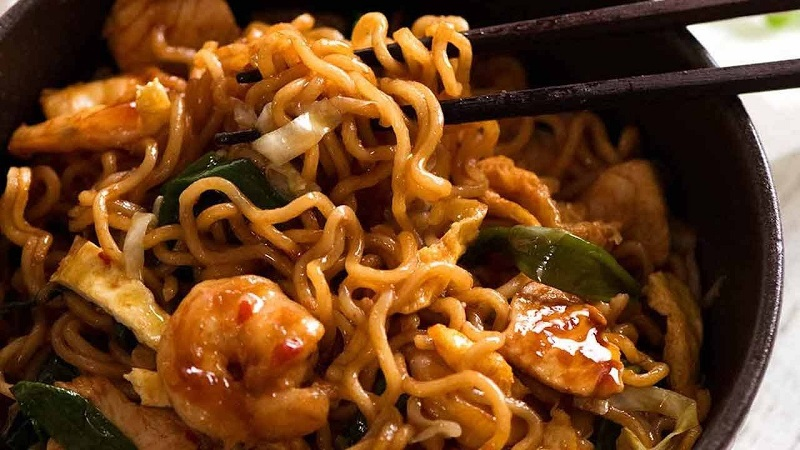Mie: (4, 3, 716, 450)
